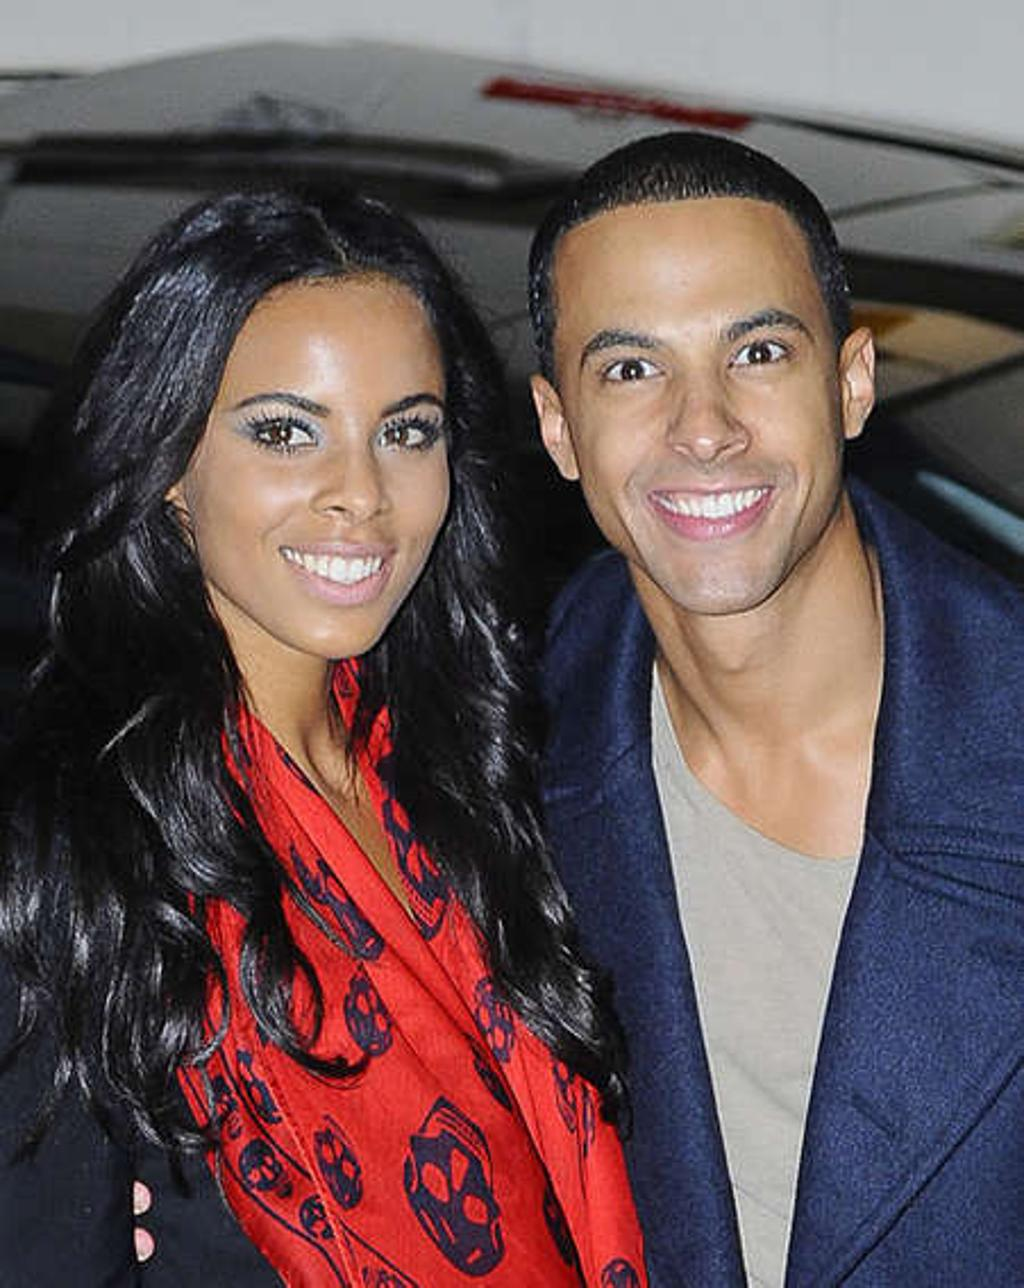face: (559, 201, 846, 606), (181, 279, 453, 661)
